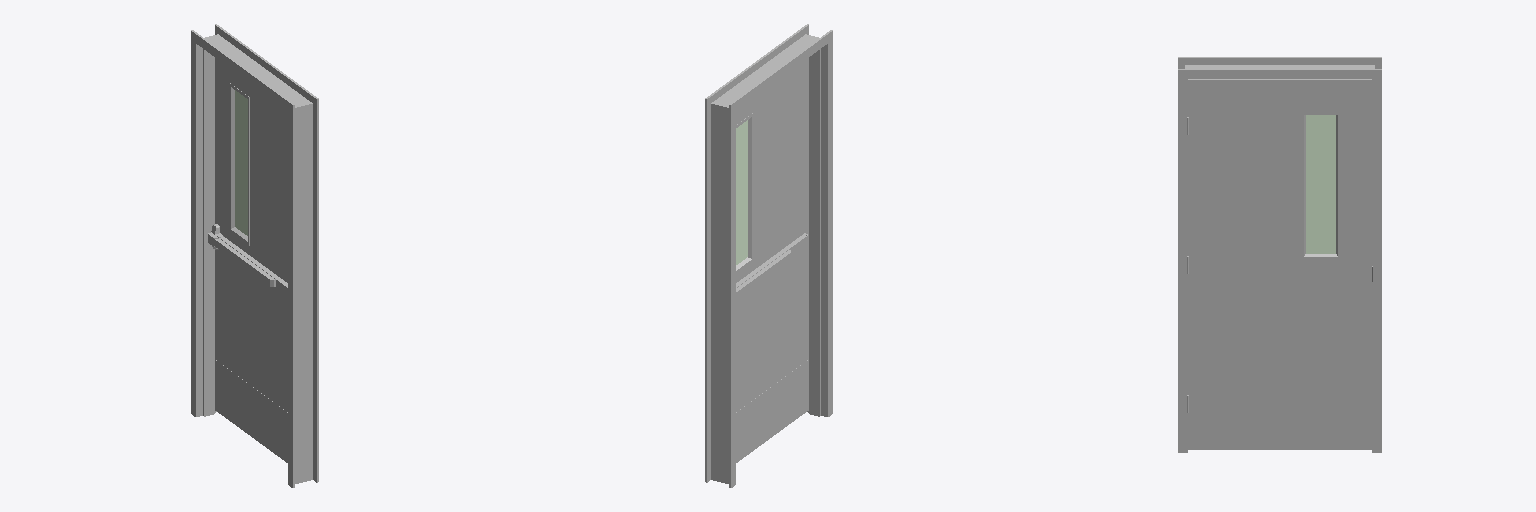
Rendered from doors.obj.
3 renders of one model, left to right at view 1: azimuth 30°, elevation 25°; view 2: azimuth 150°, elevation 25°; view 3: azimuth 270°, elevation 25°, orthographic.
Visible parts, largest first — view 1: frame_005_Plane.007, door_005_Cylinder.022, kick_plate_005_Cube.023, push_bar_005_Cube.015, push_socket_005_Cube.014; view 2: frame_005_Plane.007, door_005_Cylinder.022, kick_plate_005_Cube.023, push_bar_005_Cube.015; view 3: door_005_Cylinder.022, frame_005_Plane.007.
Part boxes in pixels (bbox=[...]): frame_005_Plane.007: bbox=[191, 24, 318, 487]; door_005_Cylinder.022: bbox=[215, 58, 287, 462]; kick_plate_005_Cube.023: bbox=[216, 360, 287, 458]; push_bar_005_Cube.015: bbox=[214, 238, 275, 286]; push_socket_005_Cube.014: bbox=[208, 224, 287, 295]; frame_005_Plane.007: bbox=[705, 24, 832, 487]; door_005_Cylinder.022: bbox=[736, 58, 808, 462]; kick_plate_005_Cube.023: bbox=[736, 360, 807, 458]; push_bar_005_Cube.015: bbox=[736, 250, 791, 298]; door_005_Cylinder.022: bbox=[1187, 79, 1371, 449]; frame_005_Plane.007: bbox=[1178, 57, 1381, 452].
Bounding box in the file's own units: 0.1625 × 2.1 × 1.02.